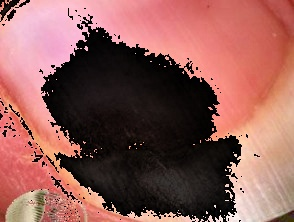Nail_psoriasis: (0, 18, 294, 222)
